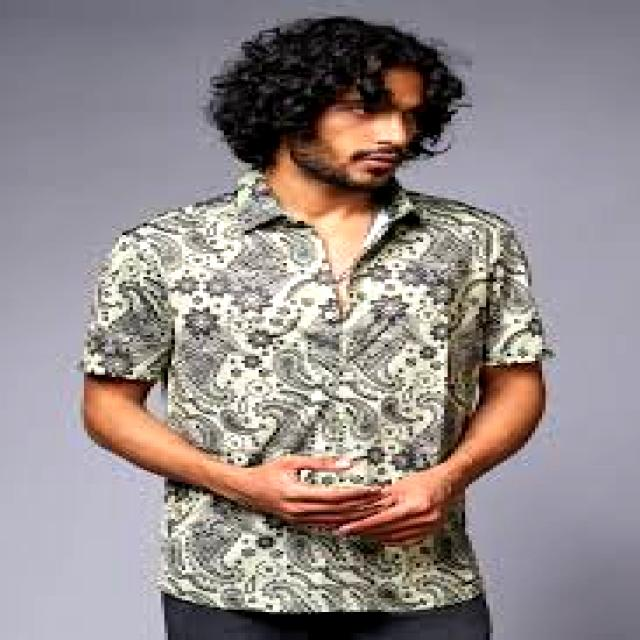face: (287, 68, 423, 190)
lower-wear: (161, 594, 489, 639)
top-wear: (81, 170, 552, 486)
